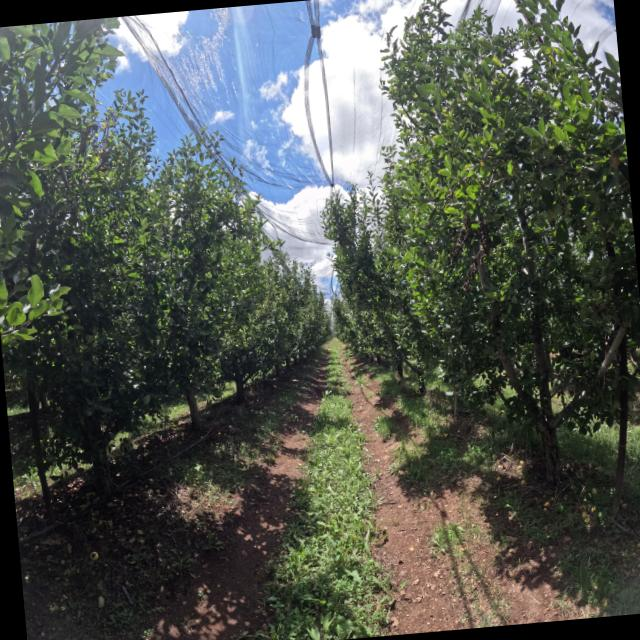-FireBlight-: (450, 206, 491, 291)
